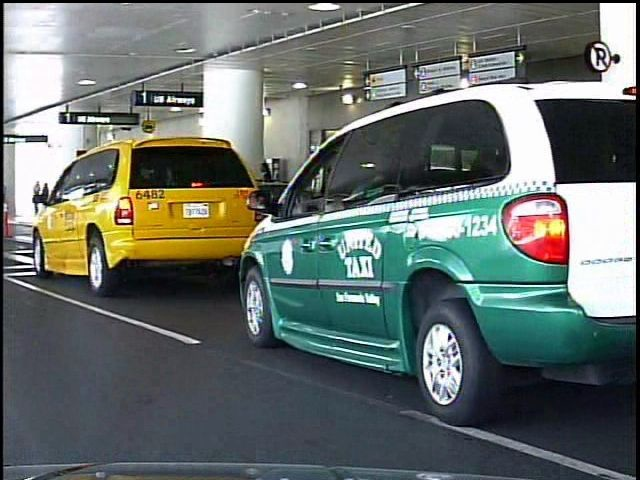person: (42, 181, 57, 221), (3, 181, 18, 217), (33, 180, 45, 220)
